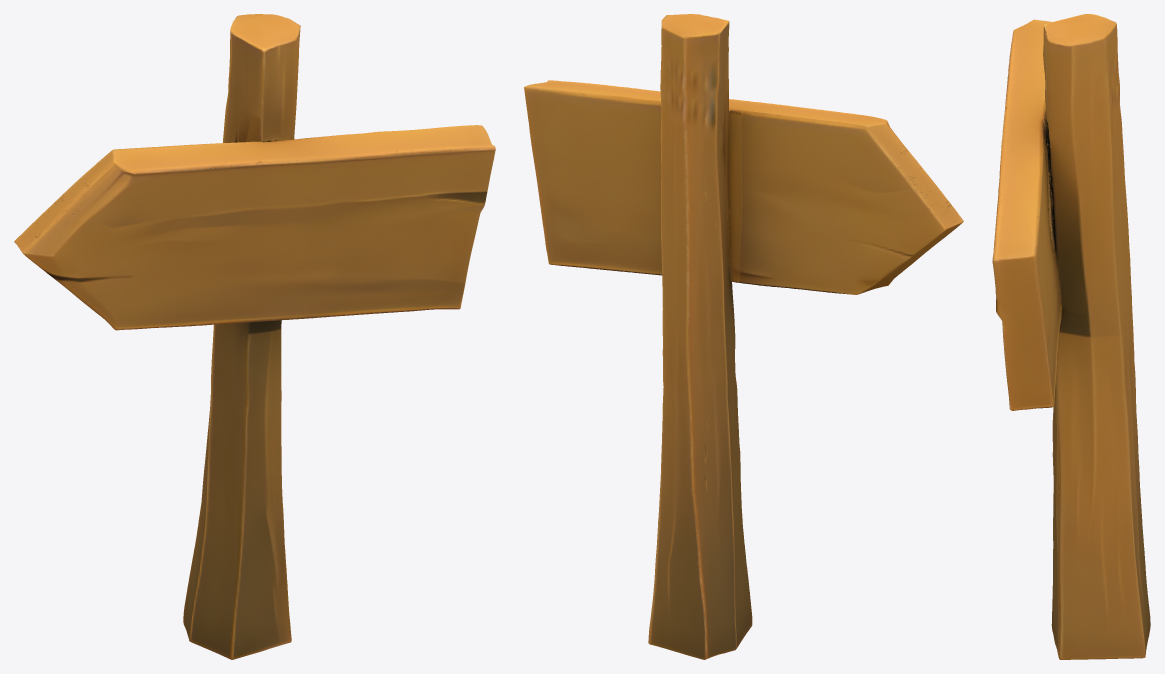
The model's file is base_basic_shaded.fbx.
The picture shows the model from 3 angles, left to right: view 1: azimuth 30°, elevation 25°; view 2: azimuth 150°, elevation 25°; view 3: azimuth 270°, elevation 25°; orthographic projection. The views are drawn at different scales.
Visible parts, largest first — view 1: geometry_0; view 2: geometry_0; view 3: geometry_0.
Boxes of the visible parts, x1,y1,x2,y2 form: geometry_0: (14, 14, 495, 659); geometry_0: (524, 14, 963, 659); geometry_0: (992, 14, 1150, 659).
Bounding box in the file's own units: 147 × 190 × 43.43.
